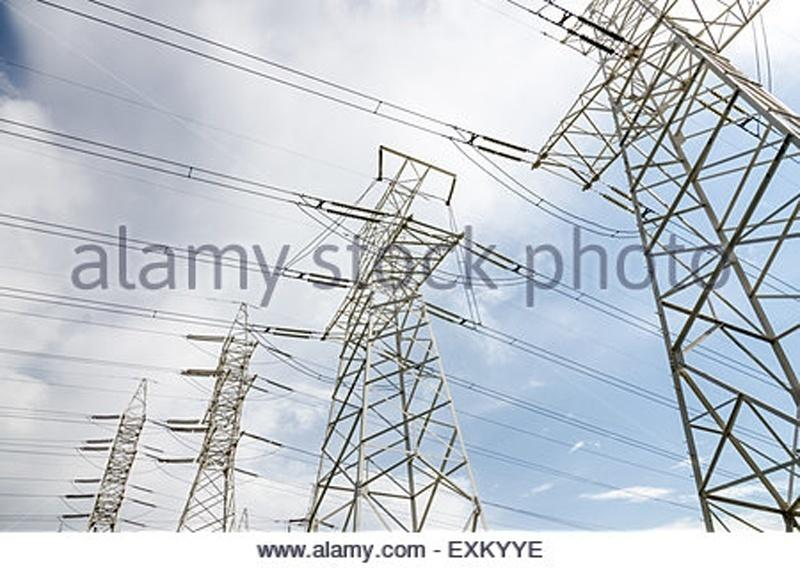power_tower: (520, 3, 797, 527), (302, 190, 482, 544), (179, 316, 282, 539), (64, 361, 160, 538)
